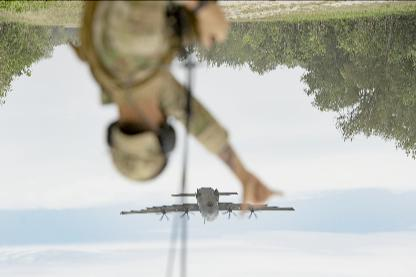Be200: (121, 188, 295, 224)
